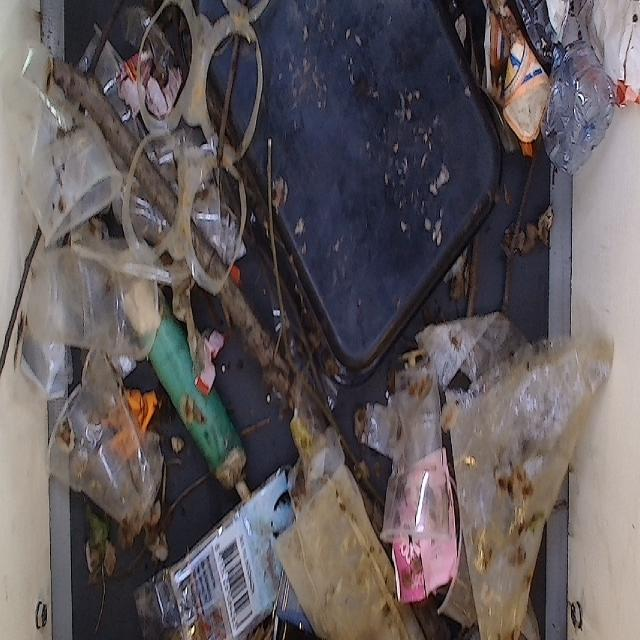food_packaging: (459, 0, 553, 157)
food_wrapping: (378, 434, 471, 603), (108, 34, 182, 127)
outside_classes: (199, 0, 521, 382), (120, 209, 252, 504)
pet_bottles: (524, 0, 628, 194)
plastic_cups: (15, 198, 166, 366), (44, 348, 163, 536), (8, 31, 115, 234), (380, 364, 461, 557)
plastic_films: (422, 289, 618, 640), (120, 0, 267, 293), (288, 379, 420, 640), (139, 462, 299, 640)
